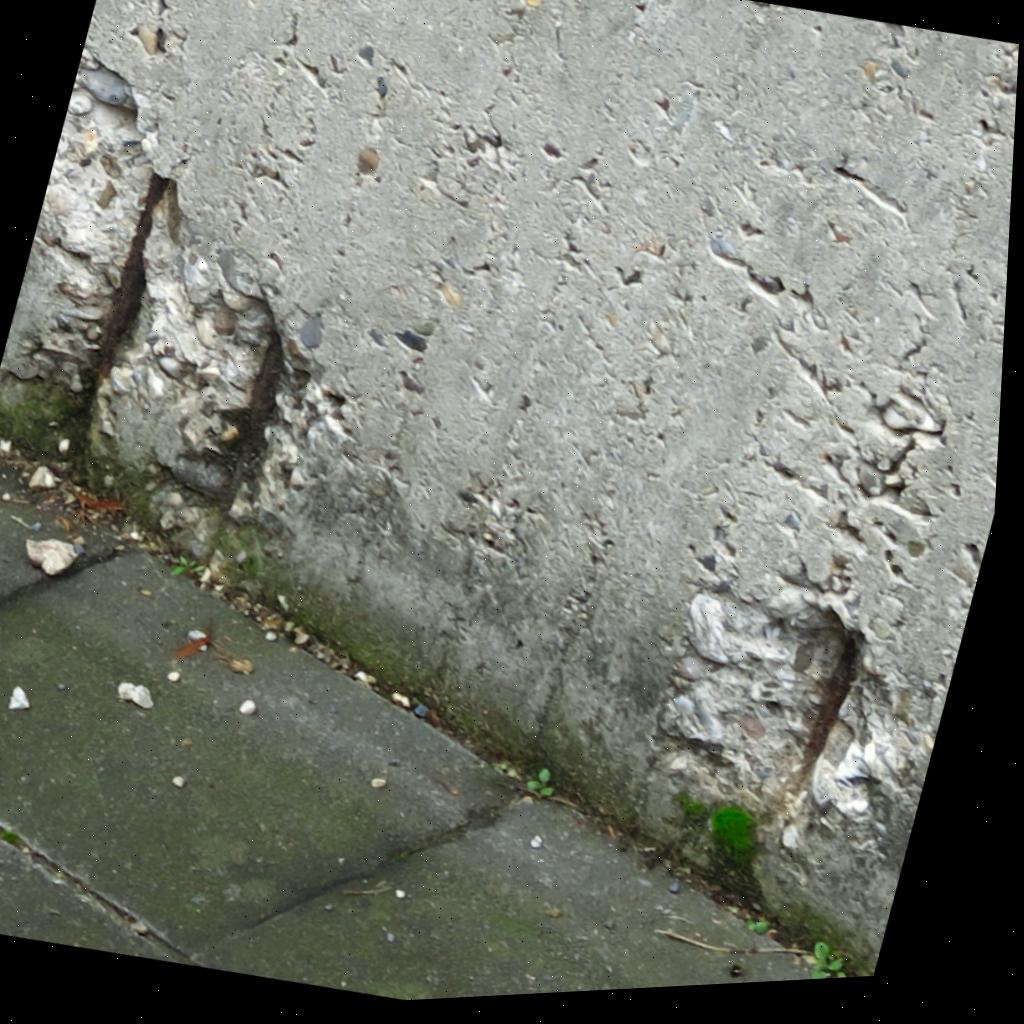exposed_rebar: (92, 175, 171, 394), (223, 330, 284, 508), (799, 632, 859, 784)
